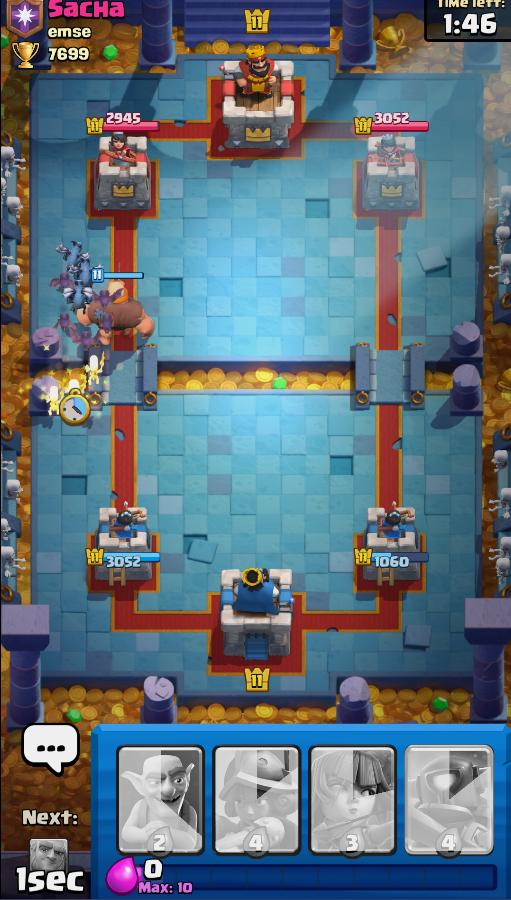bat: (94, 309, 120, 338), (90, 288, 123, 306), (54, 311, 78, 334), (50, 270, 76, 291), (69, 331, 101, 348)
gargouille: (55, 238, 90, 273), (63, 280, 90, 310), (74, 261, 95, 286)
geant: (82, 279, 160, 352)
squelette: (82, 352, 109, 389), (64, 376, 86, 412), (44, 385, 64, 421)
